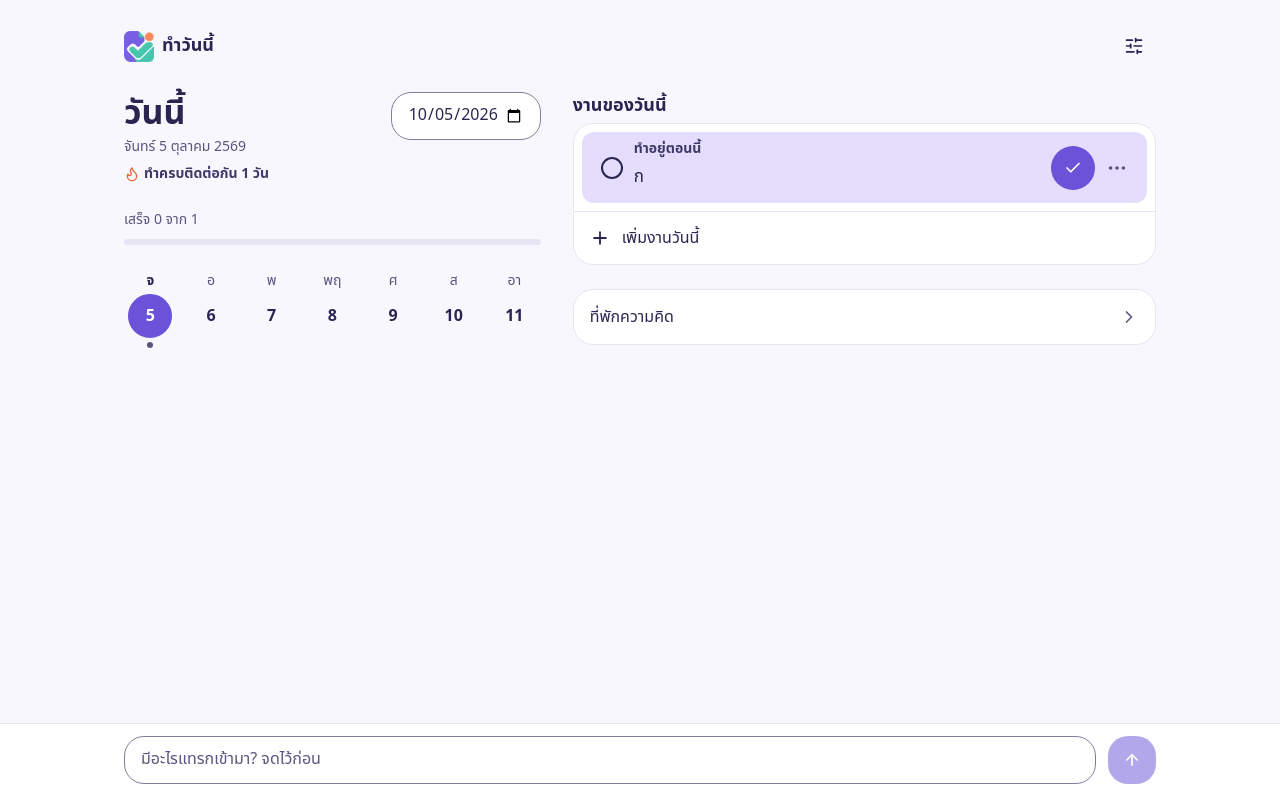
Scenario: ฟีเจอร์ใหม่: สถิติ ฉลอง วางหลายบรรทัด › ทำครบวันนี้: การ์ดยินดีบอกสถิติ และแถบวันของวันนี้ขึ้นว่าทำครบแล้ว
The width and height of the screenshot is (1280, 800).
Step 1. Click the button named "เสร็จแล้ว: ก" → click(1073, 168), box [1051,146,1095,190]
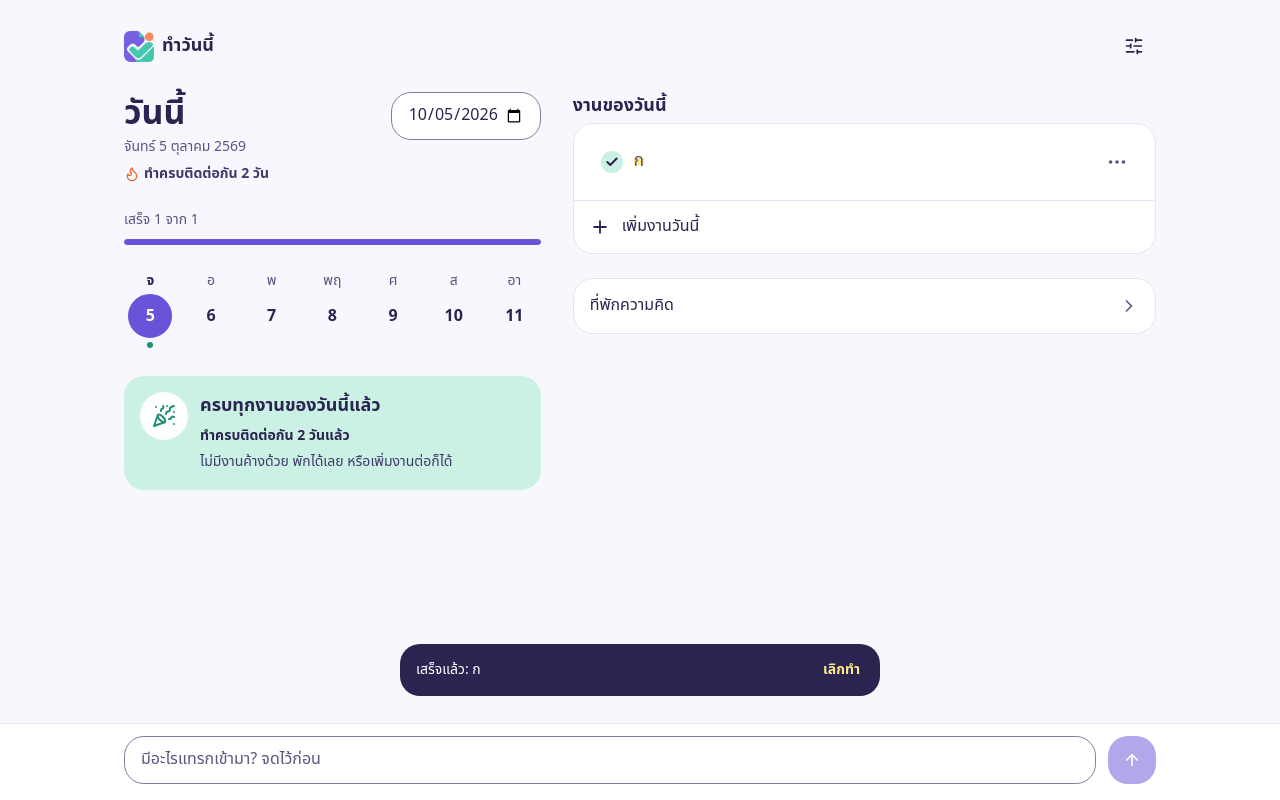
expect the element named "ทำครบแล้ว" shows "ทำครบติดต่อกัน 2 วันแล้ว": met, box [124,376,541,490]
